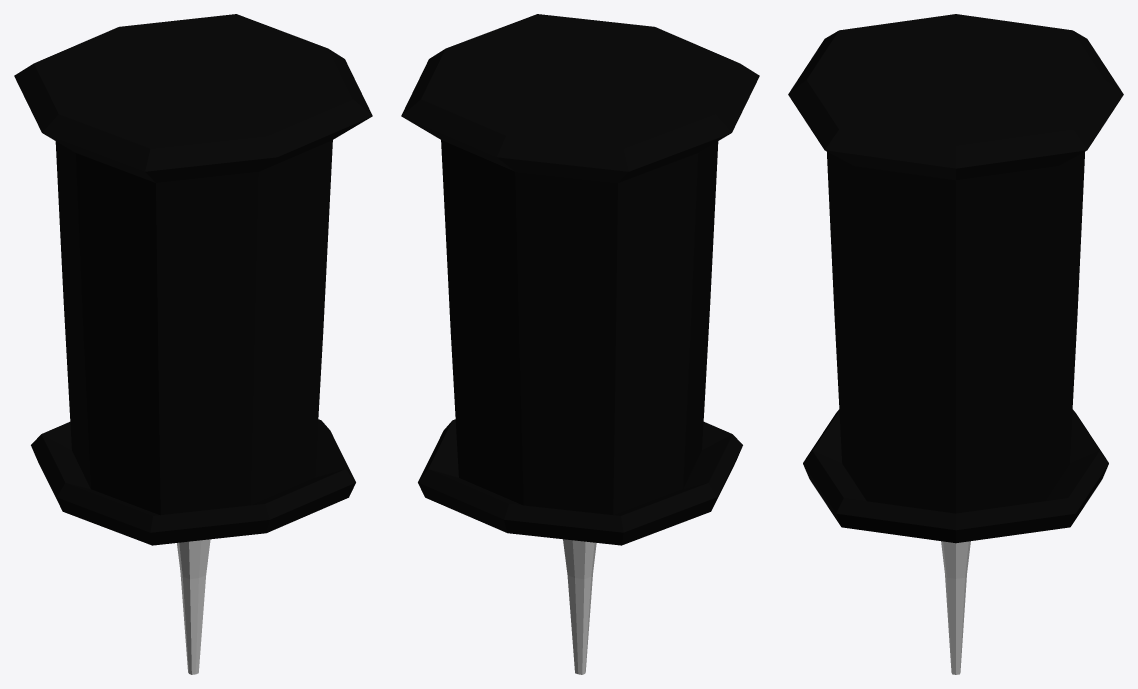
Rendered from obj_Pin.obj.
3 views of the same model, side by side, from view 1: azimuth 30°, elevation 25°; view 2: azimuth 150°, elevation 25°; view 3: azimuth 270°, elevation 25° (orthographic).
Parts seen in each view (by area): view 1: obj_Pin; view 2: obj_Pin; view 3: obj_Pin.
Part boxes in pixels (x1,y1,x2,y2): obj_Pin: [14, 14, 372, 674]; obj_Pin: [401, 14, 759, 674]; obj_Pin: [788, 14, 1123, 674].
Bounding box in the file's own units: 0.0159 × 0.0296 × 0.0152.
